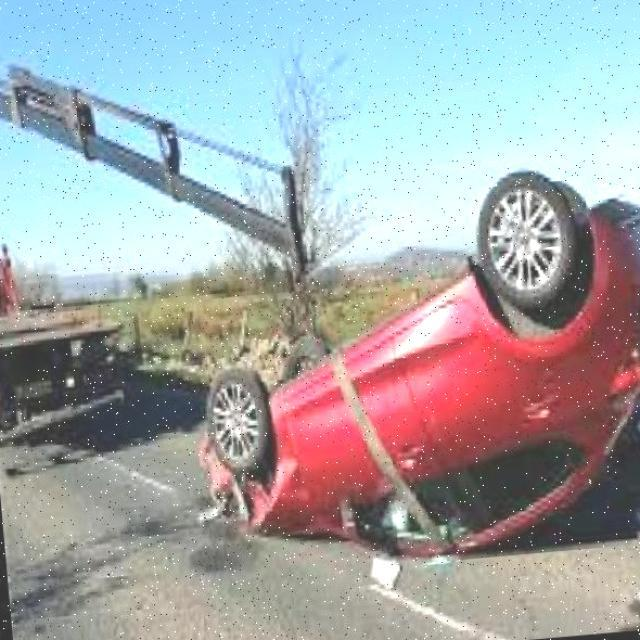accident: (168, 156, 640, 583)
